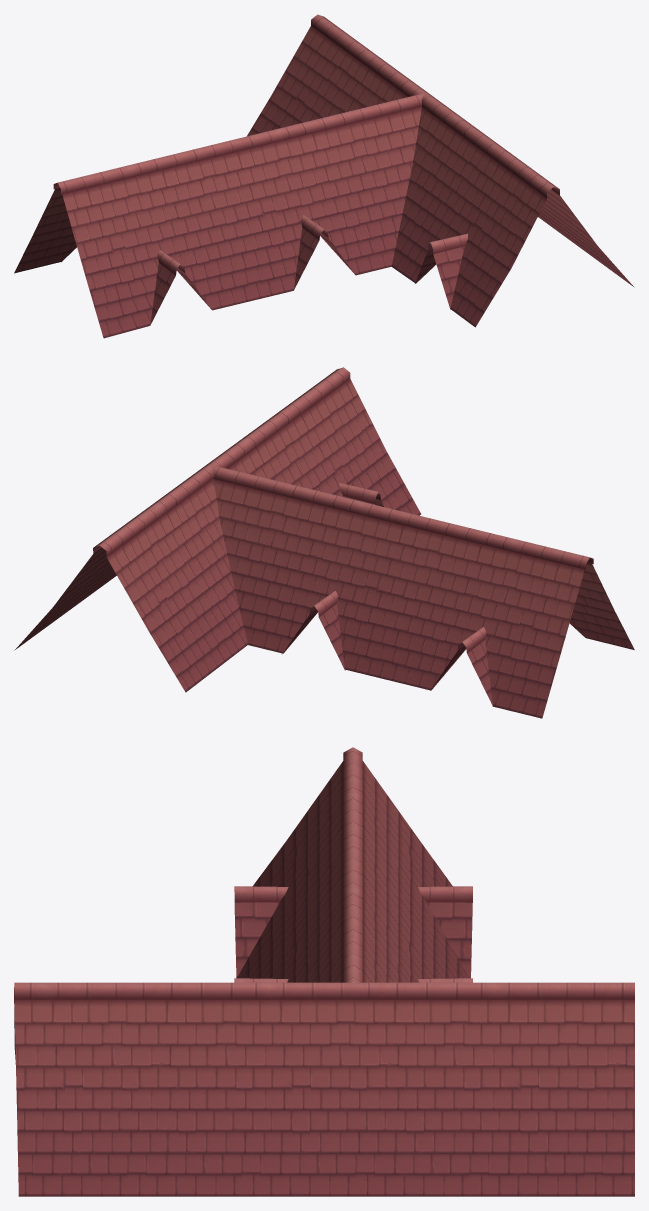
File: scene_luoliante_jg02.FBX
3 views of the same model, one above another, from view 1: azimuth 30°, elevation 25°; view 2: azimuth 150°, elevation 25°; view 3: azimuth 270°, elevation 25° (orthographic). The views are drawn at different scales.
Visible parts, largest first — view 1: sence_luoliante_jg02; view 2: sence_luoliante_jg02; view 3: sence_luoliante_jg02.
Boxes of the visible parts, left/top/right/bottom form: sence_luoliante_jg02: left=14, top=14, right=634, bottom=338; sence_luoliante_jg02: left=14, top=367, right=634, bottom=718; sence_luoliante_jg02: left=14, top=747, right=634, bottom=1196.
Size of the model in its own units: 803 by 212 by 729.
